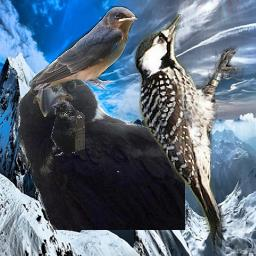Crow: (15, 66, 185, 230), (50, 100, 85, 156)
Swallow: (29, 6, 139, 95)
Woodpecker: (134, 14, 244, 251)
